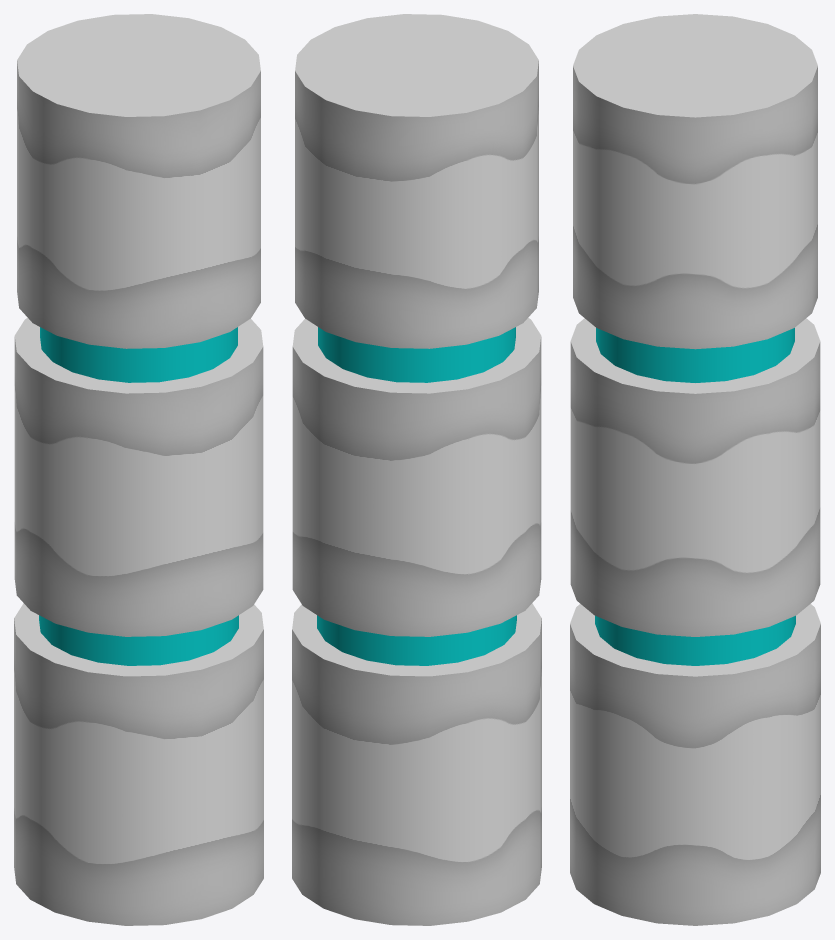
The model's file is SM_Circle_Column.fbx.
3 views of the same model, side by side, from view 1: azimuth 30°, elevation 25°; view 2: azimuth 150°, elevation 25°; view 3: azimuth 270°, elevation 25° (orthographic).
Parts seen in each view (by area): view 1: pCylinder18; view 2: pCylinder18; view 3: pCylinder18.
Part boxes in pixels (left/top/right/bottom): pCylinder18: left=14, top=14, right=263, bottom=925; pCylinder18: left=292, top=14, right=541, bottom=925; pCylinder18: left=570, top=14, right=820, bottom=925.
Bounding box in the file's own units: 4.21 × 14.94 × 4.21.
Materials: 3 (1 with a texture image).
